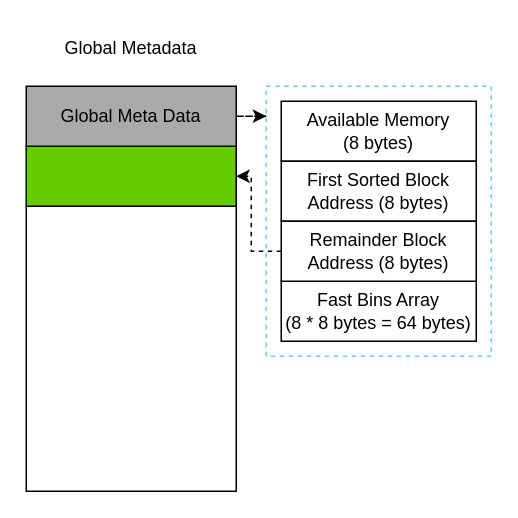
Image size: 518x518. Some labels were removed from this diagram. The centre of each missing label's shape, as x and y in pixels:
"Block Head" belongs at [130,175].
"Block Payload" belongs at [130,348].
